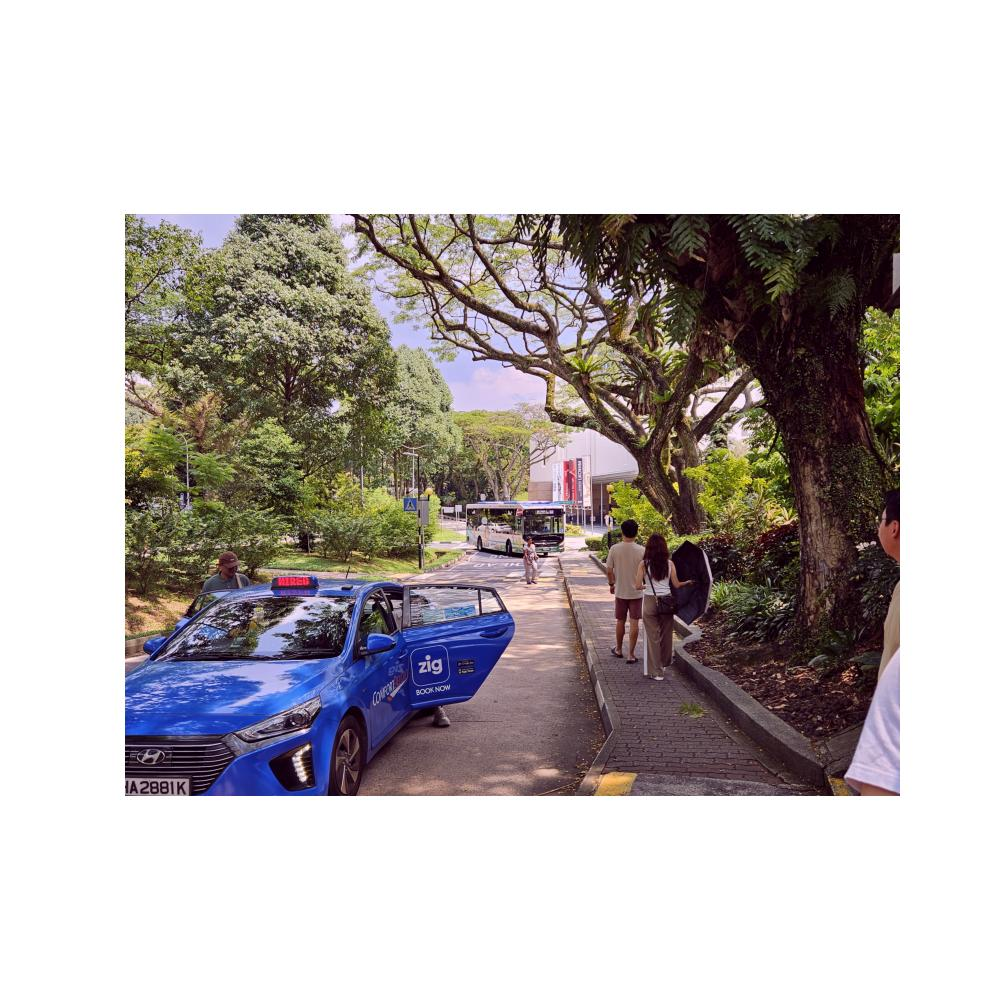bus: (464, 498, 567, 557)
